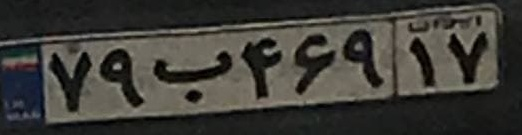character: (149, 42, 235, 105), (46, 46, 97, 119), (285, 30, 338, 99), (96, 44, 150, 111), (235, 32, 285, 104), (339, 27, 386, 95), (445, 32, 494, 88), (403, 33, 439, 93)
